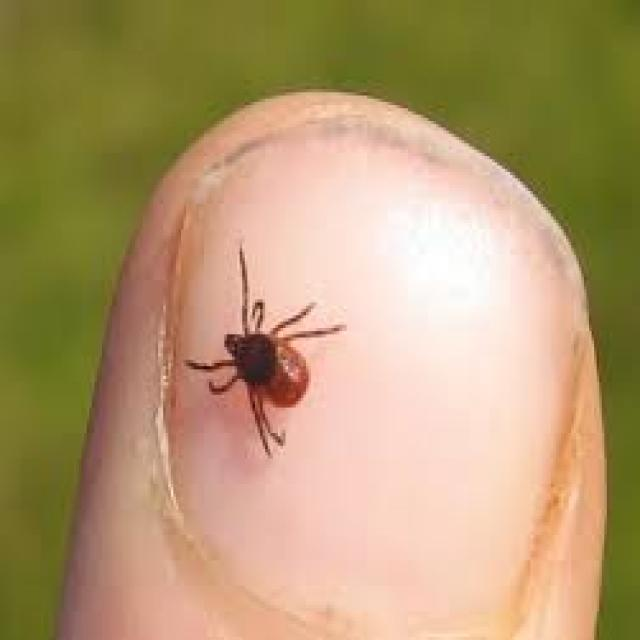kene: (177, 229, 363, 449)
